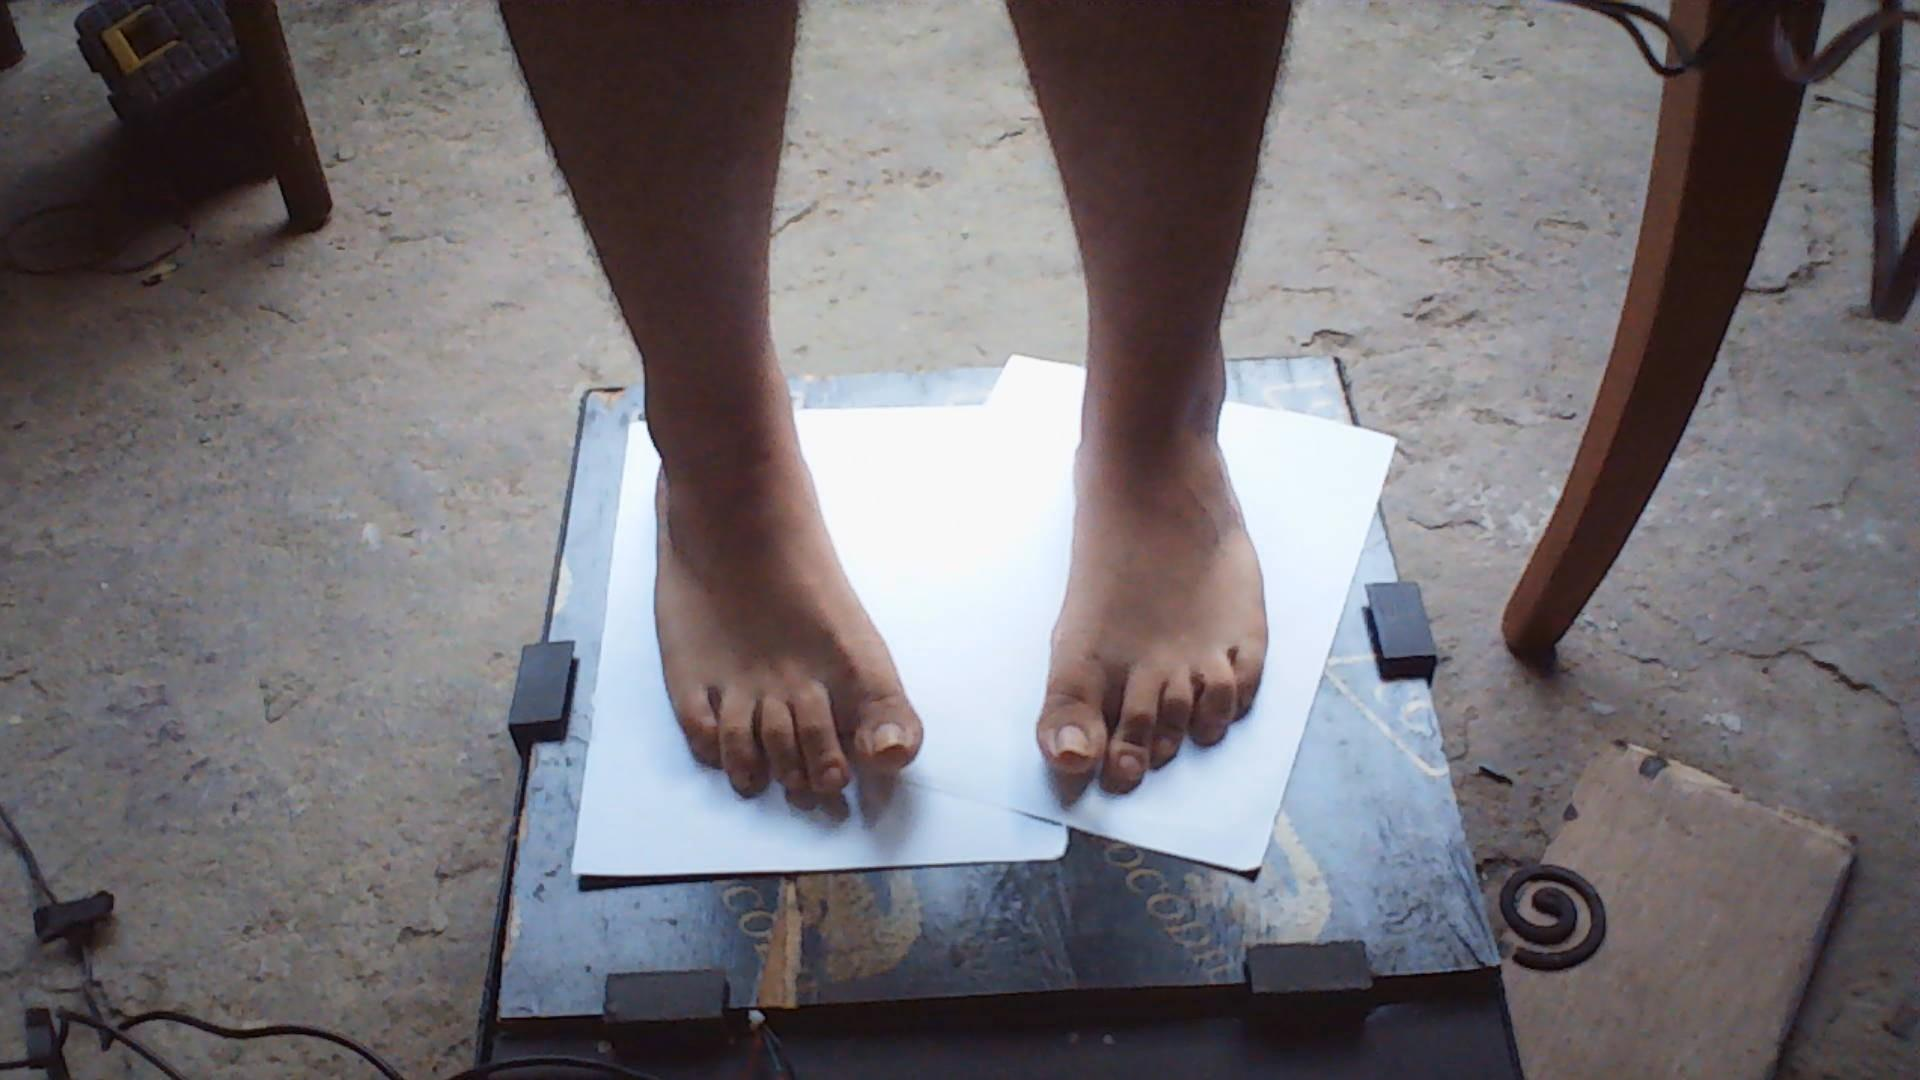Bare_feet: (646, 417, 935, 843), (1025, 385, 1288, 819)
